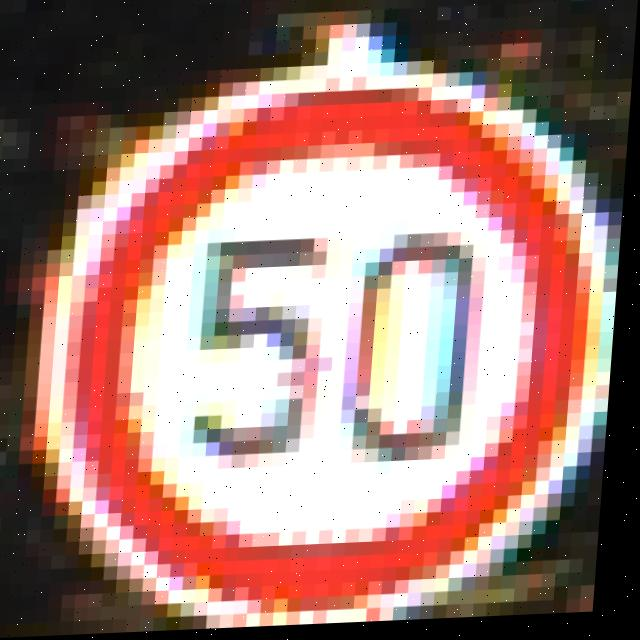speed_limit_50: (19, 65, 633, 636)
